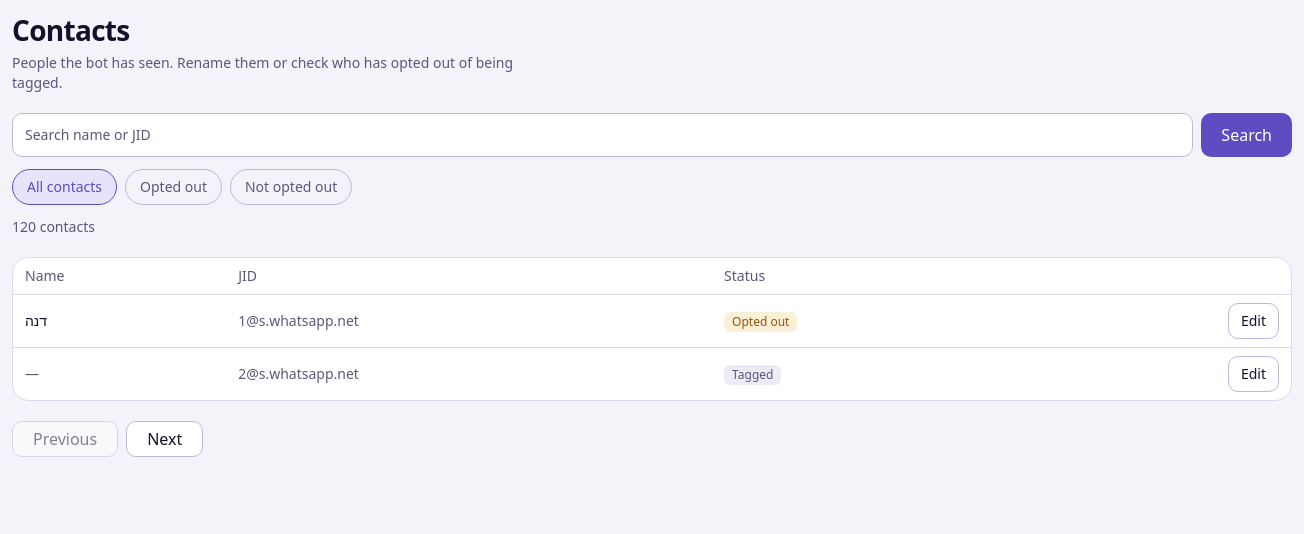
Test: Contacts focus › puts focus back in the input after a failed Save
The image size is (1304, 534).
Click the button with aria-label "Edit 2@s.whatsapp.net" at (1253, 374), box [1228,356,1279,392]
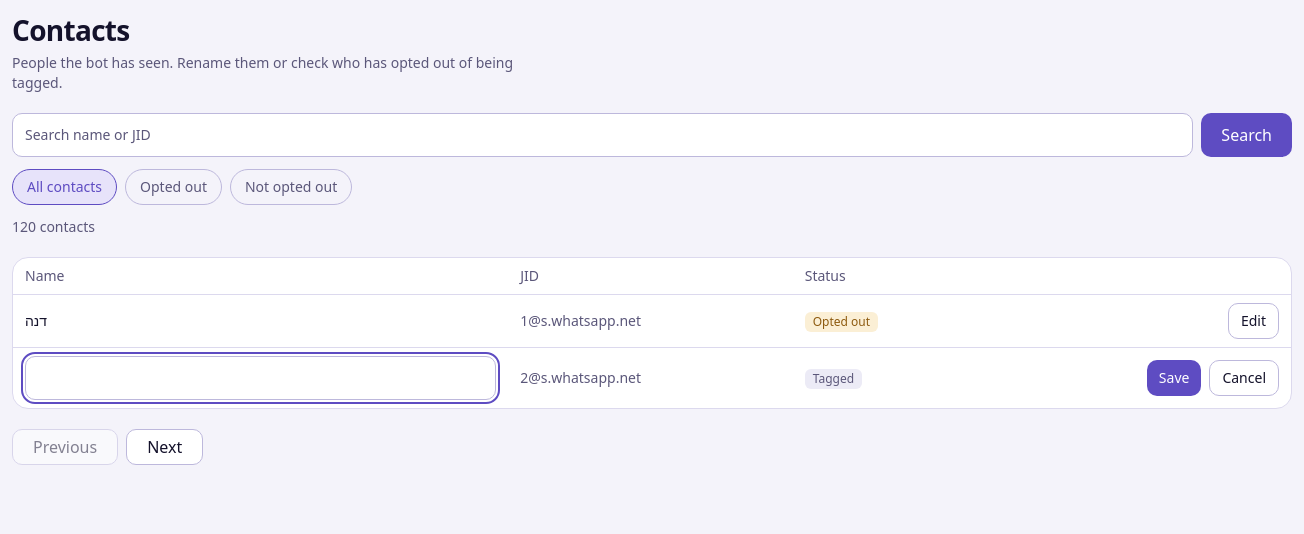
Click the button "Save" at (1174, 378), box [1147,360,1201,396]
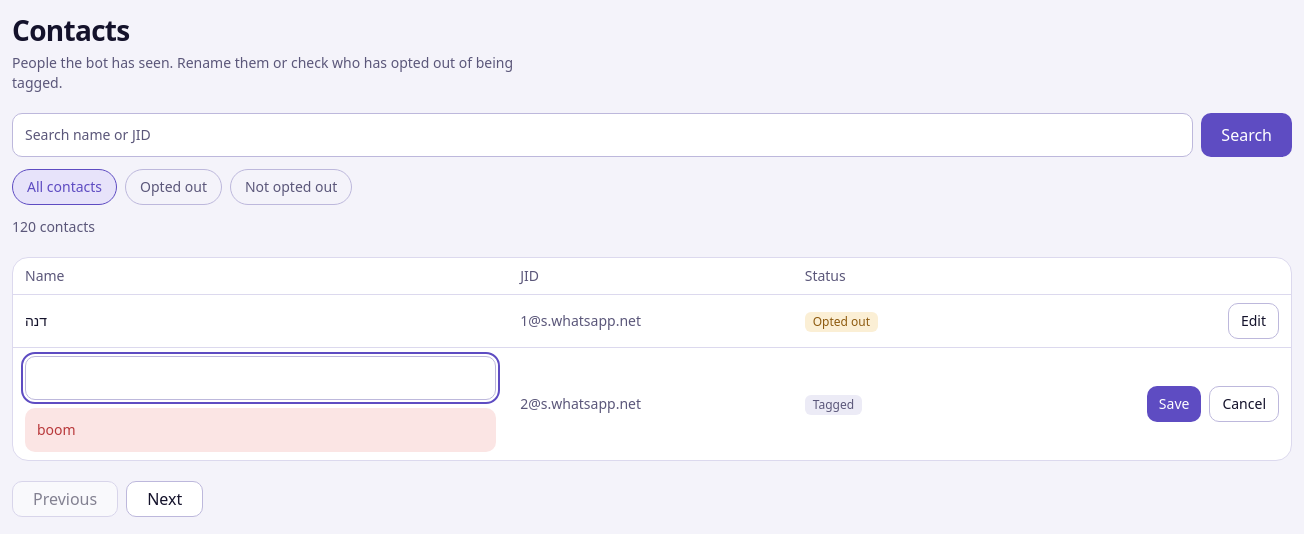
Expected: the message "boom" is shown, [25,408,496,452]
